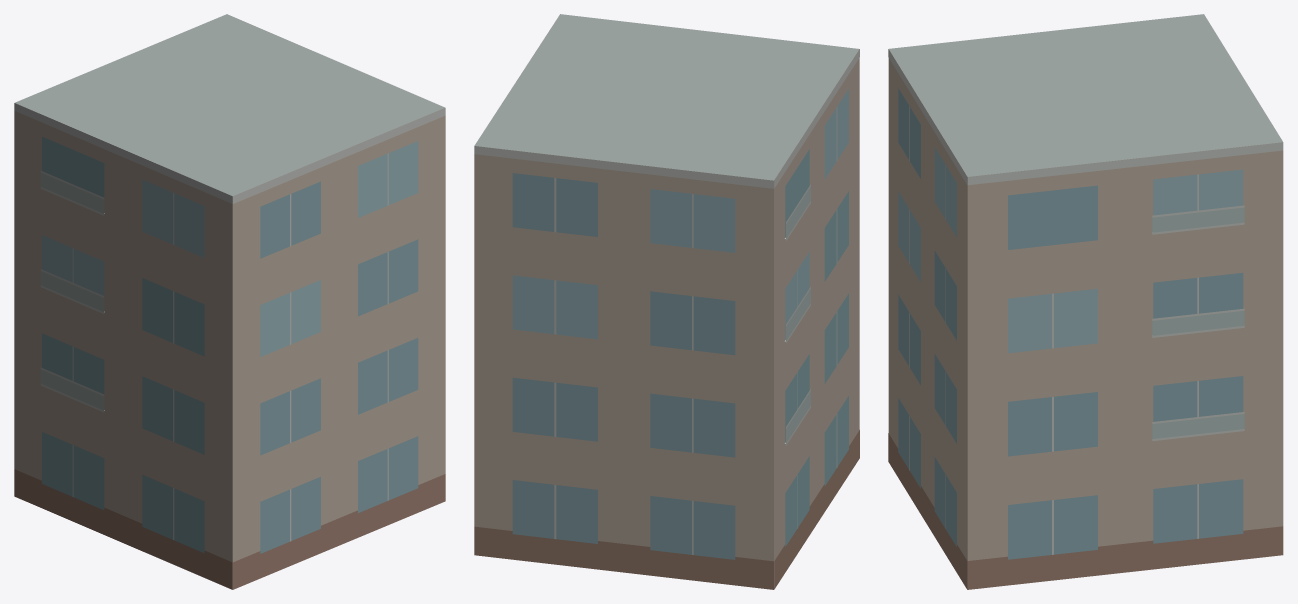
File: residential-400235e0-025b-48c6-bfa1-7719689c7312.glb
3 renders of one model, left to right at view 1: azimuth 30°, elevation 25°; view 2: azimuth 150°, elevation 25°; view 3: azimuth 270°, elevation 25°, orthographic. The views are drawn at different scales.
Visible parts, largest first — view 1: residential-400235e0-025b-48c6-bfa1-7719689c7312.tmp; view 2: residential-400235e0-025b-48c6-bfa1-7719689c7312.tmp; view 3: residential-400235e0-025b-48c6-bfa1-7719689c7312.tmp.
Boxes of the visible parts, x1,y1,x2,y2 form: residential-400235e0-025b-48c6-bfa1-7719689c7312.tmp: (14,14,445,589); residential-400235e0-025b-48c6-bfa1-7719689c7312.tmp: (474,14,859,589); residential-400235e0-025b-48c6-bfa1-7719689c7312.tmp: (888,14,1283,589).
Bounding box in the file's own units: 10.34 × 12.2 × 10.59.
